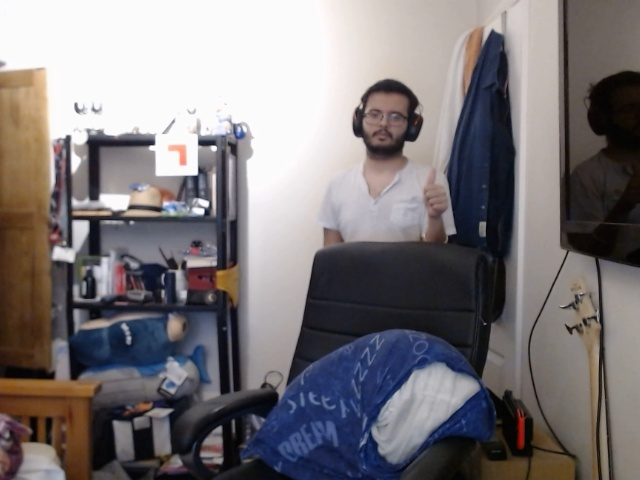Thumbs up: (413, 164, 462, 223)
